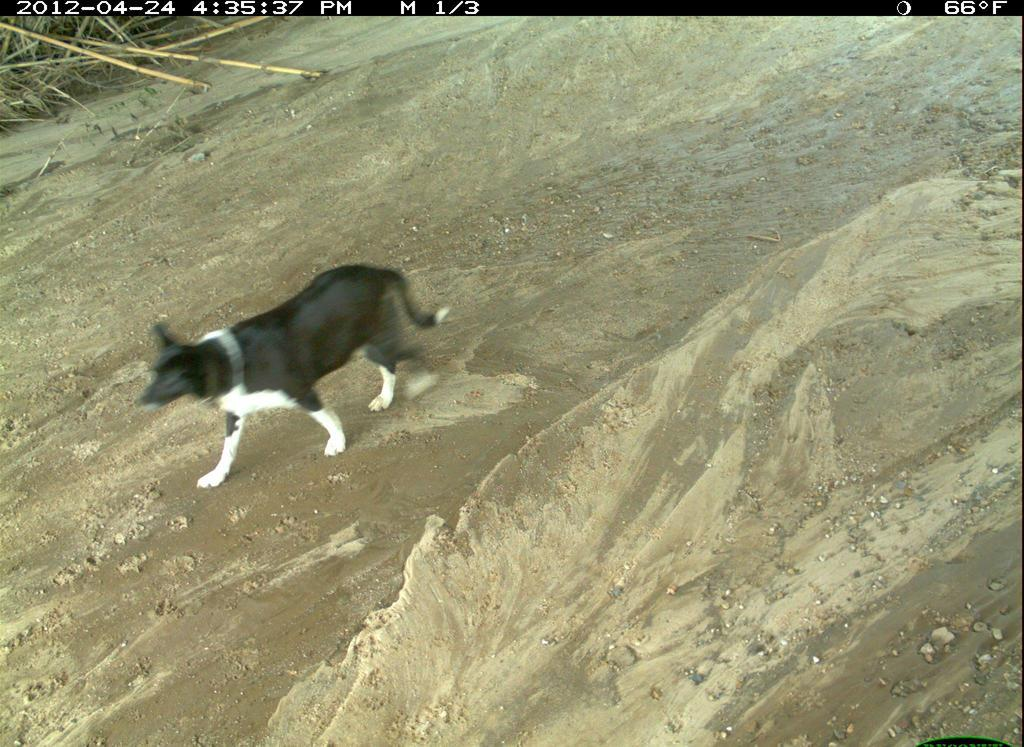dog: (264, 520, 904, 747)
